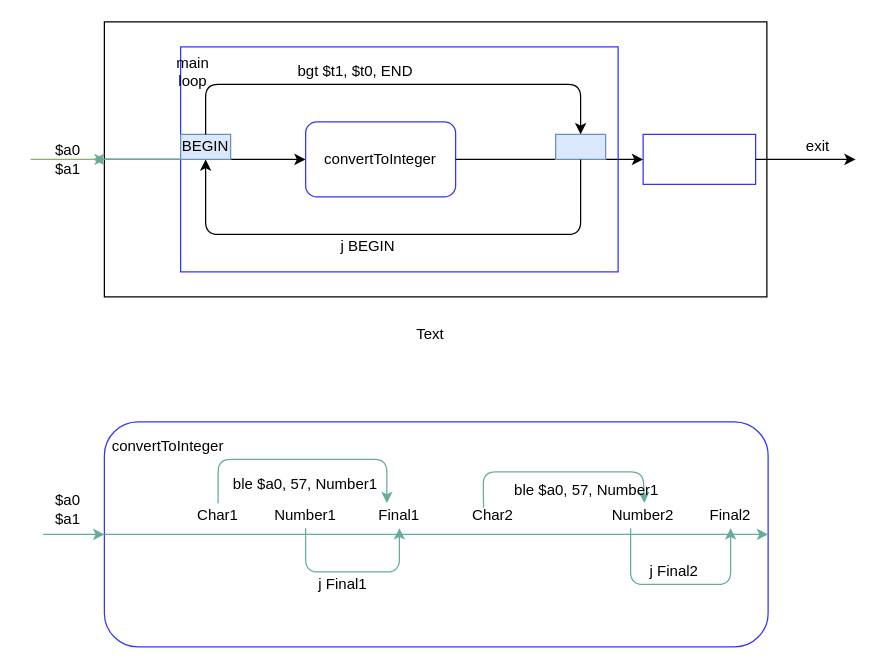
This 888x669 diagram has some shape labels left out. The box of each missing label's shape, as (x1, y1, x2, y2) in pixels:
END: (554, 133, 606, 159)
exit_code: (642, 133, 756, 184)
